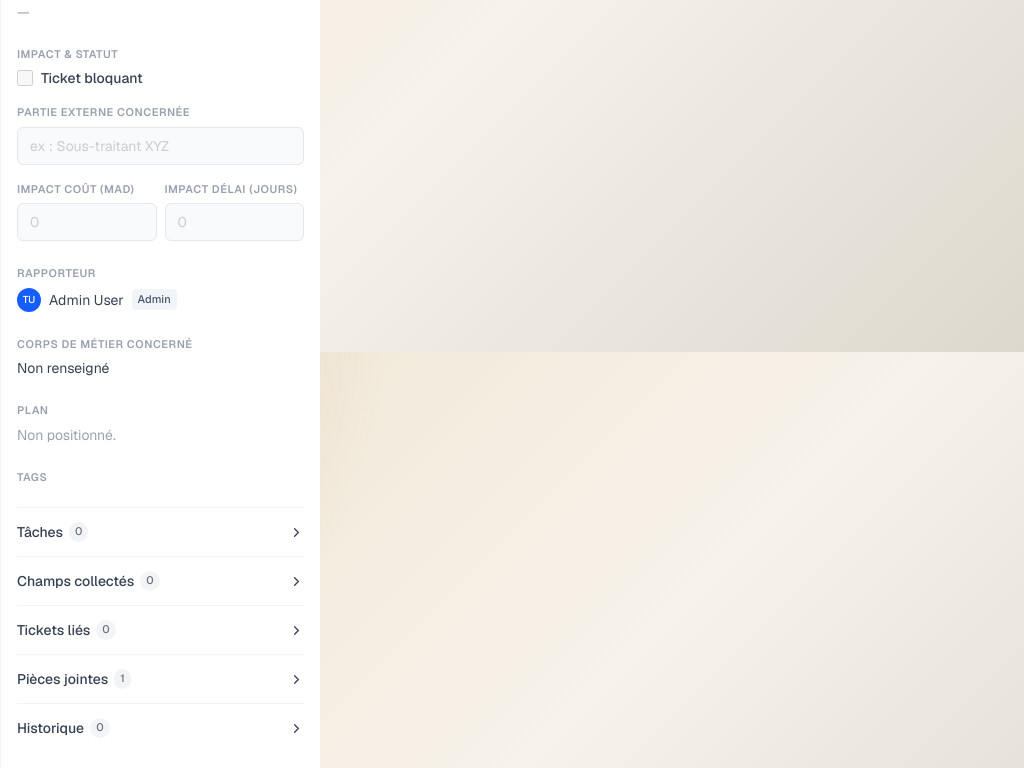
Test case: TicketDetailsPanel — attachments › disables removal of an attachment uploaded by someone else, per canDeleteAttachment
(page scrolled)
Click the button "Pièces jointes 1" at [63, 679], box [17,669,304,689]
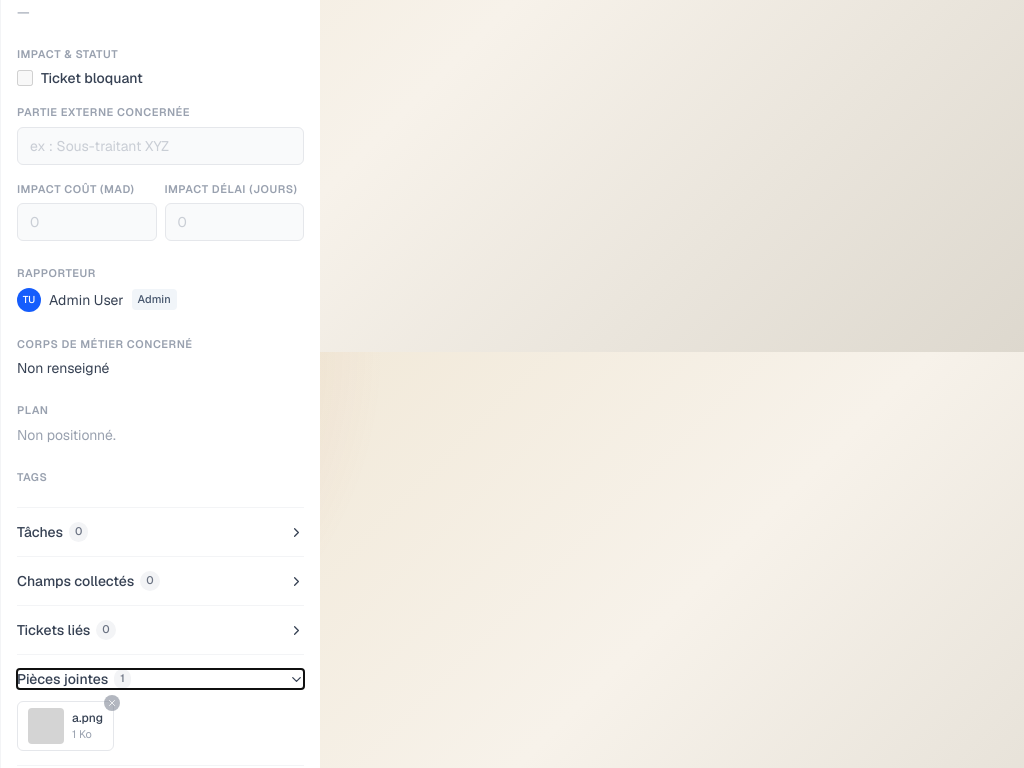
Expected: the button titled "Votre rôle ne permet pas de supprimer cette pièce jointe." is disabled, [104,695,120,711]
